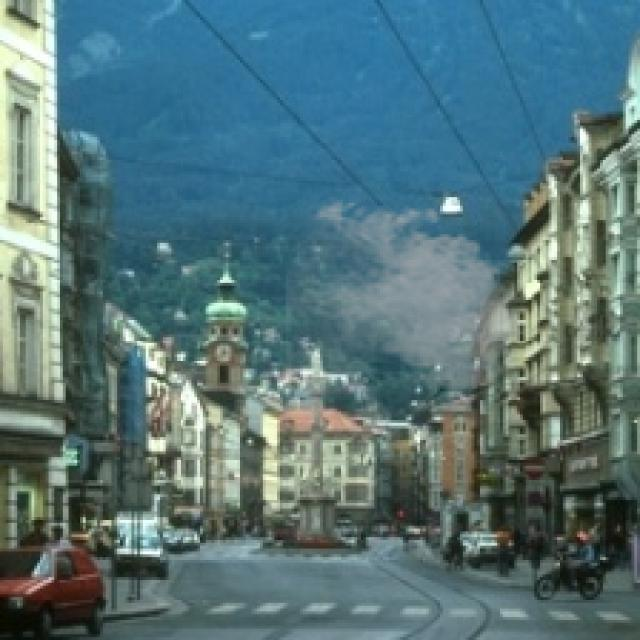smoke: (286, 194, 534, 397)
